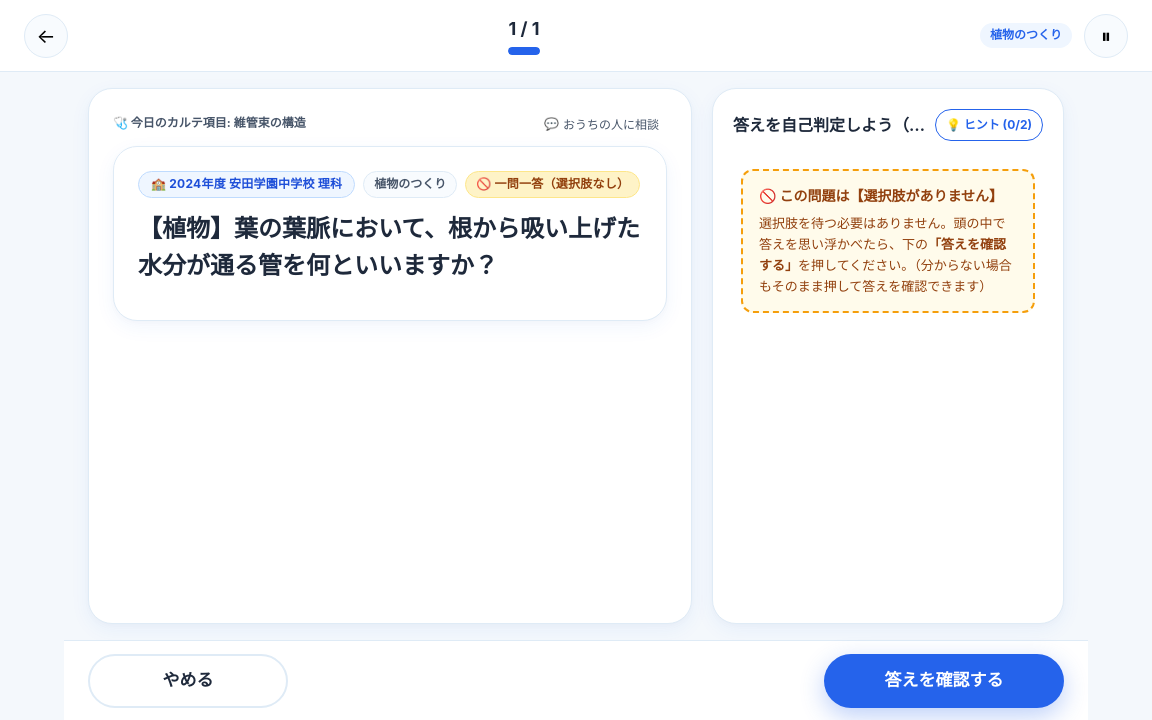
Test: Recall Card Question UI Verification › correctly displays recall card in the answer area without choices confusion
Expected: the element with test id "answer-area" shows "答えを自己判定しよう", [733,115,1005,135]
// 「答えを確認する」を押すと、模範解答と自己判定ボタン（正解・惜しかった・思い出せなかった）が表示されること
Step 1. Click the button with test id "recall-reveal-btn" → x=944, y=680, box [824,654,1064,708]
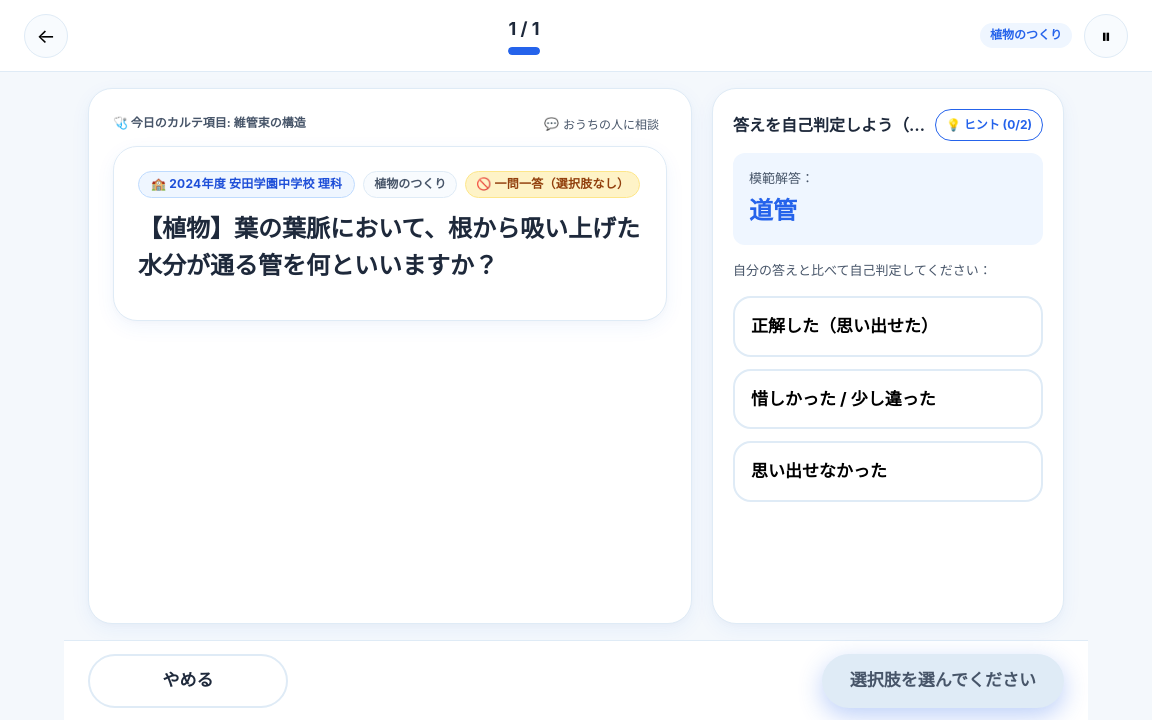
Expected: the text "模範解答：" is shown, [749,170,814,186]
Expected: the text "道管" is shown, [749,196,797,224]
Expected: the button with test id "recall-correct-btn" is shown, [733,296,1043,357]
